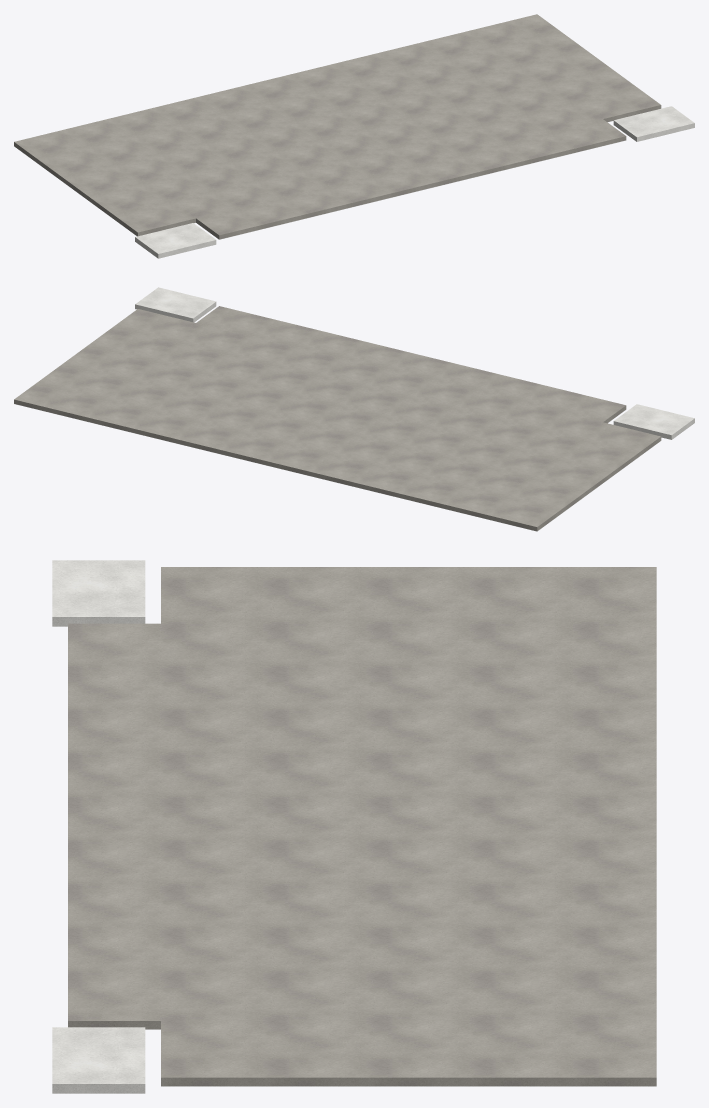
The model's file is attic.glb.
3 renders of one model, top to bottom at view 1: azimuth 30°, elevation 25°; view 2: azimuth 150°, elevation 25°; view 3: azimuth 270°, elevation 25°, orthographic. The views are drawn at different scales.
Parts seen in each view (by area): view 1: attic_conc_s, attic_ceil; view 2: attic_conc_s, attic_ceil; view 3: attic_conc_s, attic_ceil.
Part boxes in pixels (bbox=[...]): attic_conc_s: bbox=[14, 14, 661, 239]; attic_ceil: bbox=[14, 106, 694, 258]; attic_conc_s: bbox=[14, 306, 661, 531]; attic_ceil: bbox=[14, 287, 694, 531]; attic_conc_s: bbox=[68, 567, 656, 1085]; attic_ceil: bbox=[52, 560, 656, 1093].
Bounding box in the file's own units: 24 × 0.28 × 11.7.
Materials: 5 (2 with a texture image).
